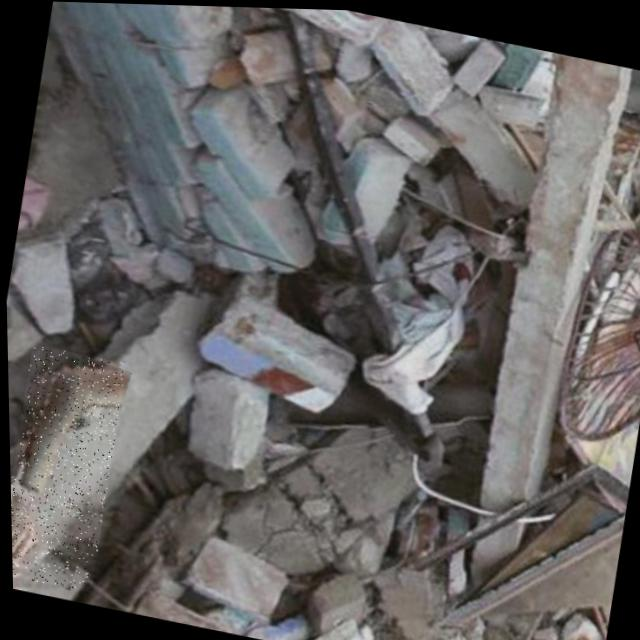Person in Rubble: (6, 343, 127, 593)
